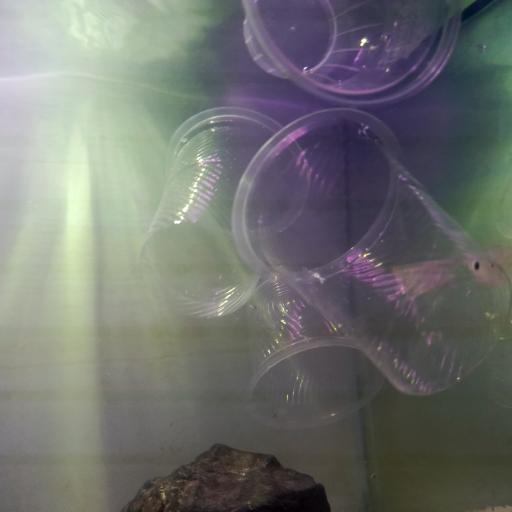plastic_cup: (230, 105, 512, 397), (137, 103, 309, 322), (238, 0, 461, 109), (245, 272, 390, 430)
